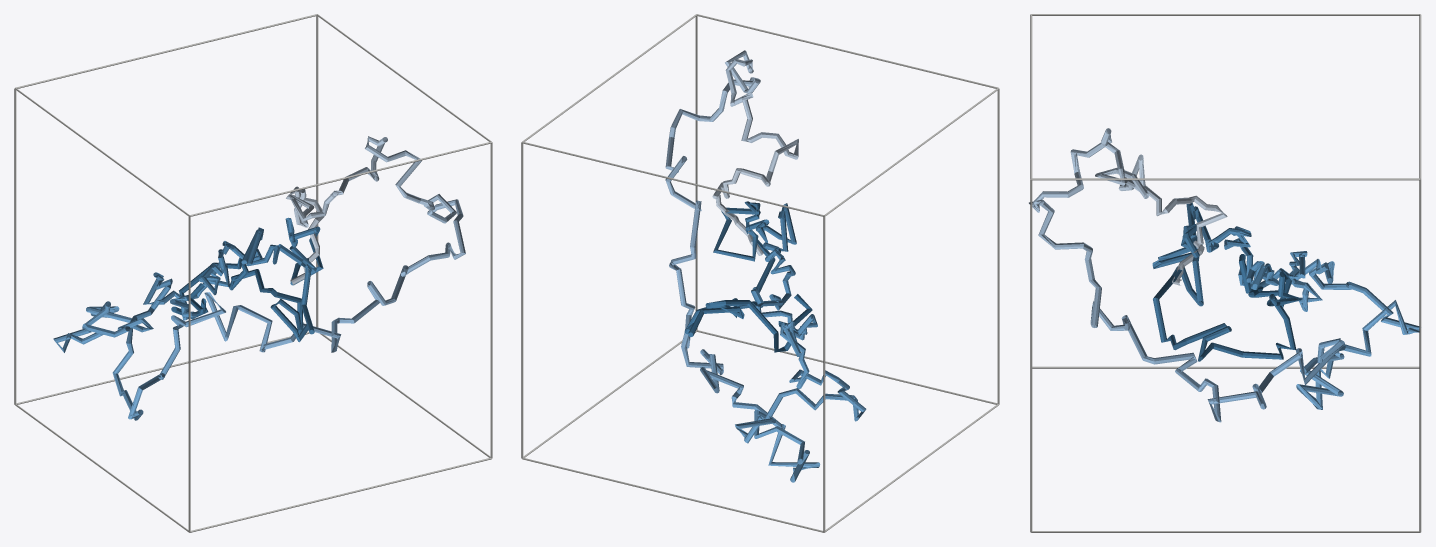
The model's file is BR20_early.glb.
The picture shows the model from 3 angles, left to right: view 1: azimuth 30°, elevation 25°; view 2: azimuth 150°, elevation 25°; view 3: azimuth 270°, elevation 25°; orthographic projection. The views are drawn at different scales.
Visible parts, largest first — view 1: geometry_0, geometry_1; view 2: geometry_0, geometry_1; view 3: geometry_0, geometry_1.
Boxes of the visible parts, x1,y1,x2,y2 form: geometry_0: [53, 136, 465, 420]; geometry_1: [14, 14, 492, 532]; geometry_0: [665, 50, 866, 482]; geometry_1: [521, 14, 999, 532]; geometry_0: [1029, 128, 1419, 422]; geometry_1: [1030, 14, 1421, 532].
Size of the model in its own units: 0.3041 by 0.3037 by 0.3031.
